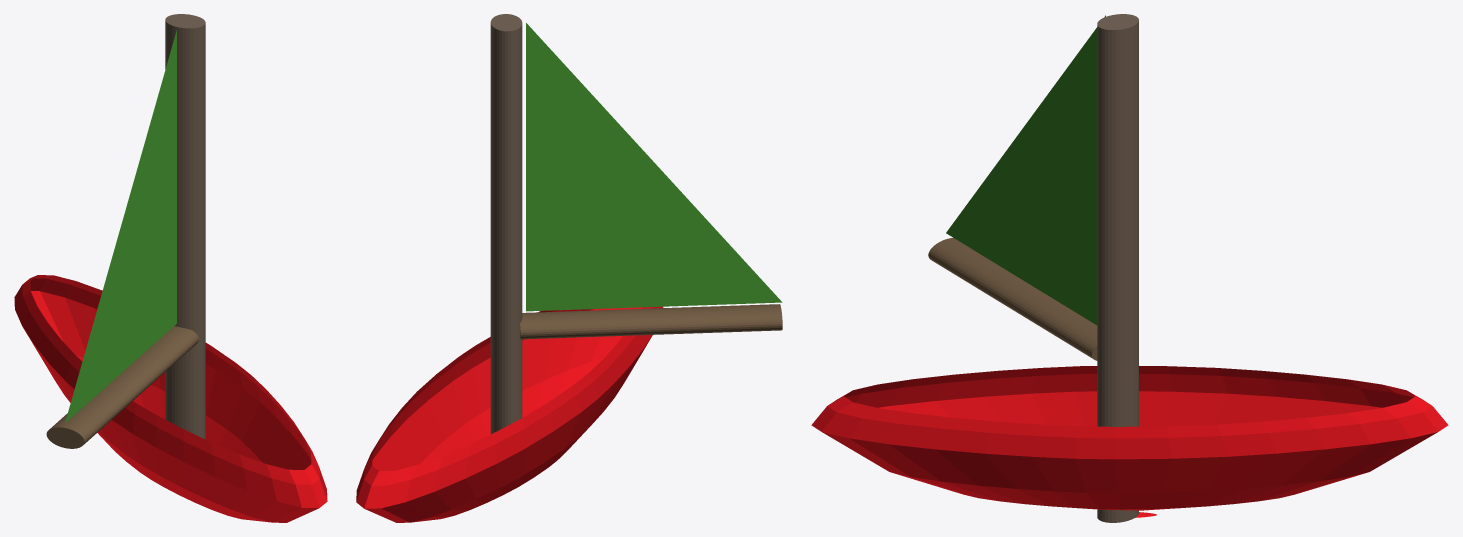
File: Voilier.glb
3 views of the same model, side by side, from view 1: azimuth 30°, elevation 25°; view 2: azimuth 150°, elevation 25°; view 3: azimuth 270°, elevation 25° (orthographic). The views are drawn at different scales.
Parts seen in each view (by area): view 1: Cercle, Plan, Cylindre, Cylindre.001; view 2: Plan, Cercle, Cylindre, Cylindre.001; view 3: Cercle, Plan, Cylindre, Cylindre.001.
Boxes of the visible parts, box(x1,y1,x2,y2) form: Cercle: box(14, 275, 327, 522); Plan: box(65, 30, 176, 423); Cylindre: box(165, 14, 205, 439); Cylindre.001: box(46, 326, 198, 448); Plan: box(526, 23, 782, 311); Cercle: box(356, 306, 663, 522); Cylindre: box(490, 14, 522, 433); Cylindre.001: box(520, 304, 782, 339); Cercle: box(811, 366, 1448, 517); Plan: box(946, 15, 1105, 325); Cylindre: box(1097, 14, 1138, 522); Cylindre.001: box(928, 237, 1097, 360).
Bounding box in the file's own units: 4.08 × 6.78 × 7.88.
